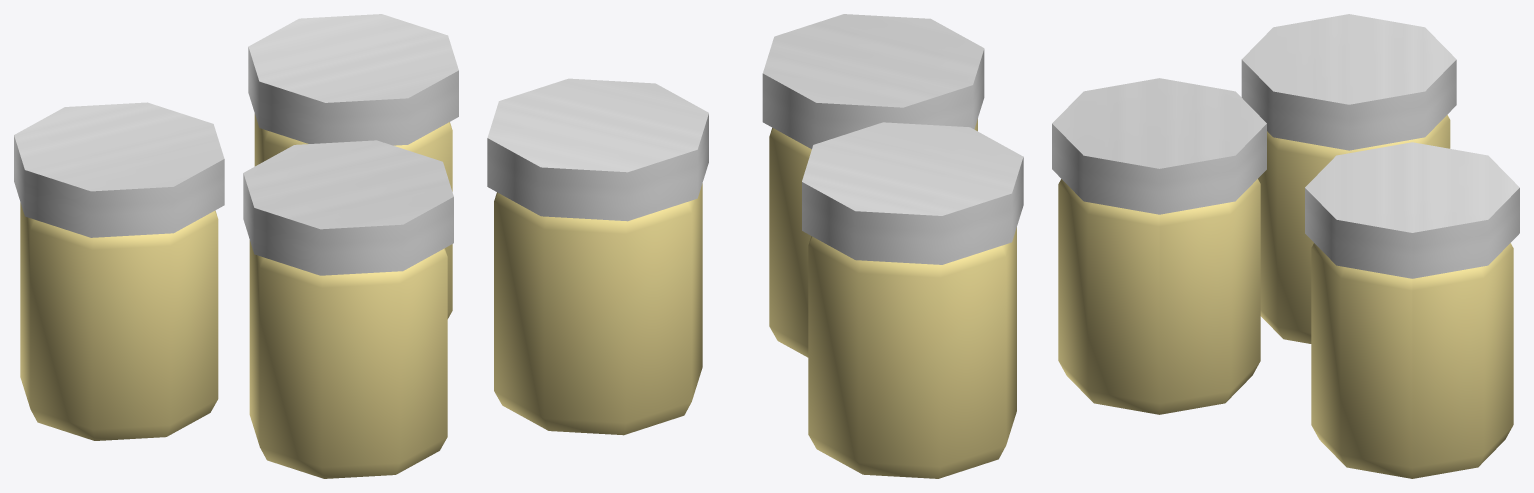
The model's file is food_jelly.obj.
The picture shows the model from 3 angles, left to right: view 1: azimuth 30°, elevation 25°; view 2: azimuth 150°, elevation 25°; view 3: azimuth 270°, elevation 25°; orthographic projection. The views are drawn at different scales.
Parts seen in each view (by area): view 1: part_036_jelly, part_000_jelly, part_045_gun_light, part_009_gun_light, part_027_gun_light, part_018_jelly; view 2: part_018_jelly, part_000_jelly, part_009_gun_light, part_027_gun_light, part_045_gun_light, part_036_jelly; view 3: part_018_jelly, part_036_jelly, part_027_gun_light, part_045_gun_light, part_009_gun_light, part_000_jelly.
Part boxes in pixels (box(x1,y1,x2,y2)): part_036_jelly: box(249, 240, 447, 478); part_000_jelly: box(20, 202, 218, 440); part_045_gun_light: box(243, 140, 453, 275); part_009_gun_light: box(14, 102, 224, 237); part_027_gun_light: box(248, 14, 458, 145); part_018_jelly: box(254, 114, 452, 318); part_018_jelly: box(494, 183, 702, 435); part_000_jelly: box(808, 227, 1016, 478); part_009_gun_light: box(802, 122, 1023, 264); part_027_gun_light: box(487, 78, 708, 221); part_045_gun_light: box(762, 14, 984, 149); part_036_jelly: box(769, 119, 977, 357); part_018_jelly: box(1311, 243, 1513, 478); part_036_jelly: box(1058, 179, 1260, 414); part_027_gun_light: box(1305, 142, 1519, 278); part_045_gun_light: box(1052, 78, 1266, 214); part_009_gun_light: box(1241, 14, 1456, 150); part_000_jelly: box(1258, 115, 1450, 343).
Bounding box in the file's own units: 0.41 × 0.22 × 0.37.
